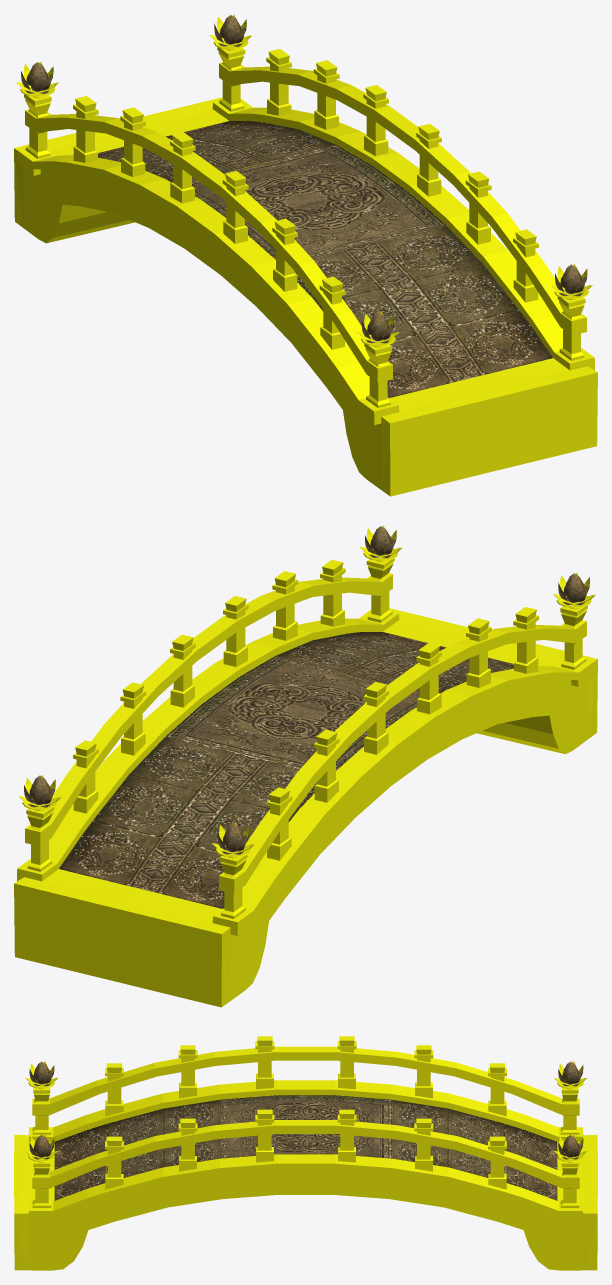
The model's file is 4st_bridge_001.glb.
The picture shows the model from 3 angles, top to bottom: view 1: azimuth 30°, elevation 25°; view 2: azimuth 150°, elevation 25°; view 3: azimuth 270°, elevation 25°; orthographic projection. The views are drawn at different scales.
Parts seen in each view (by area): view 1: 4st_bridge_001; view 2: 4st_bridge_001; view 3: 4st_bridge_001.
Boxes of the visible parts, x1,y1,x2,y2 form: 4st_bridge_001: (14, 15, 597, 496); 4st_bridge_001: (14, 525, 597, 1007); 4st_bridge_001: (14, 1036, 597, 1270).
Size of the model in its own units: 9.88 by 8.37 by 28.35.
Materials: 3 (3 with a texture image).
